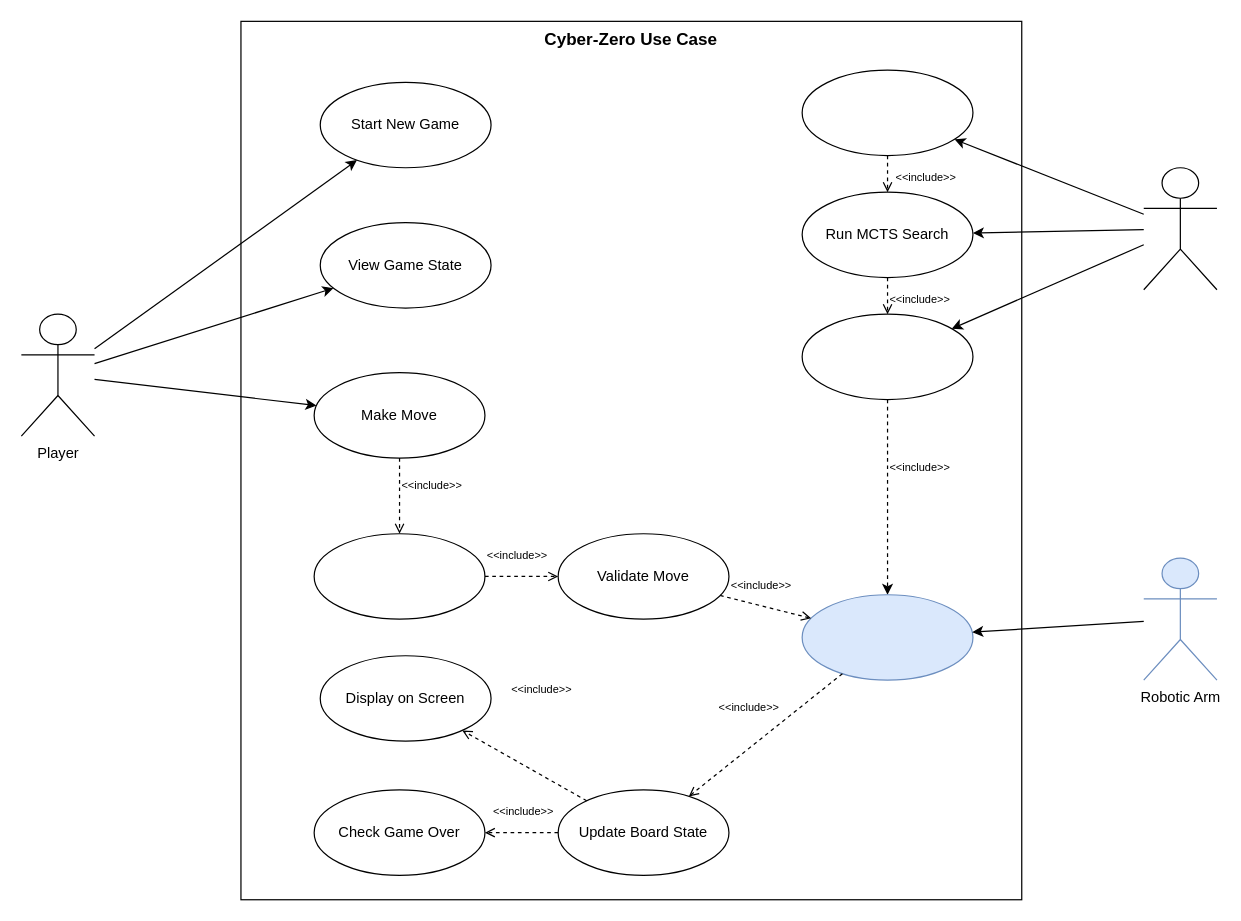
This 1241x921 diagram has some shape labels left out. Here are the shapes that lost their labels. From the top down, the centre of each, then its label:
At [887,112]: "Calculate Best Move".
At [1180,228]: "AI Agent".
At [887,356]: "Evaluate Position with Neural Network".
At [399,576]: "Detect Move".
At [887,637]: "Execute Move Physically".
